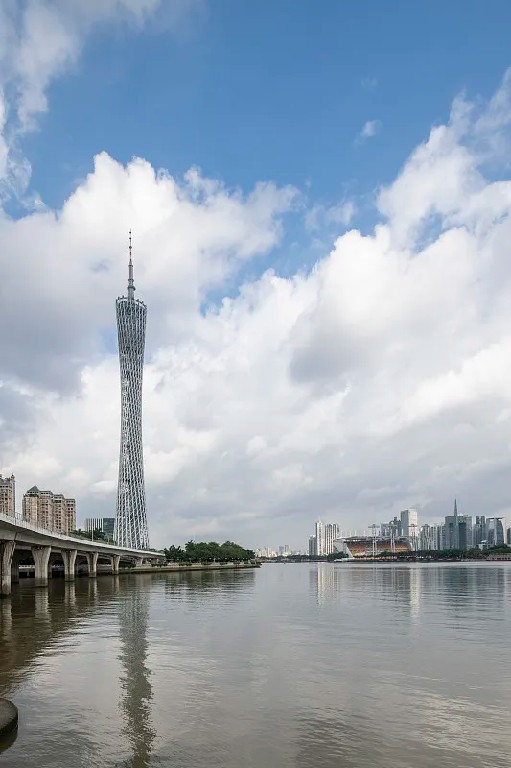Canton: (111, 229, 151, 552)
